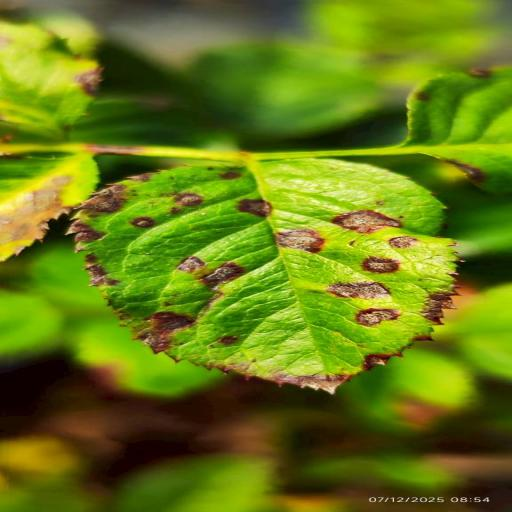black_spot: (72, 158, 454, 392), (352, 68, 511, 192)
